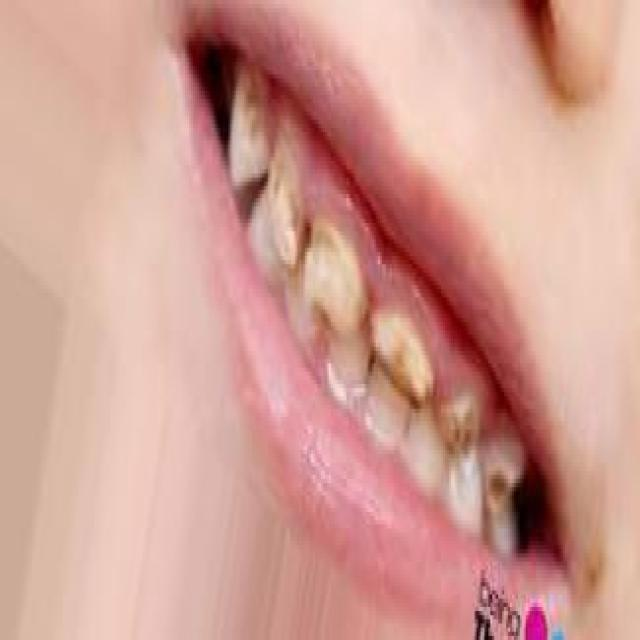caries: (302, 214, 364, 344), (371, 297, 432, 411), (261, 155, 303, 262), (438, 379, 482, 468), (232, 64, 272, 152), (485, 442, 522, 533)
